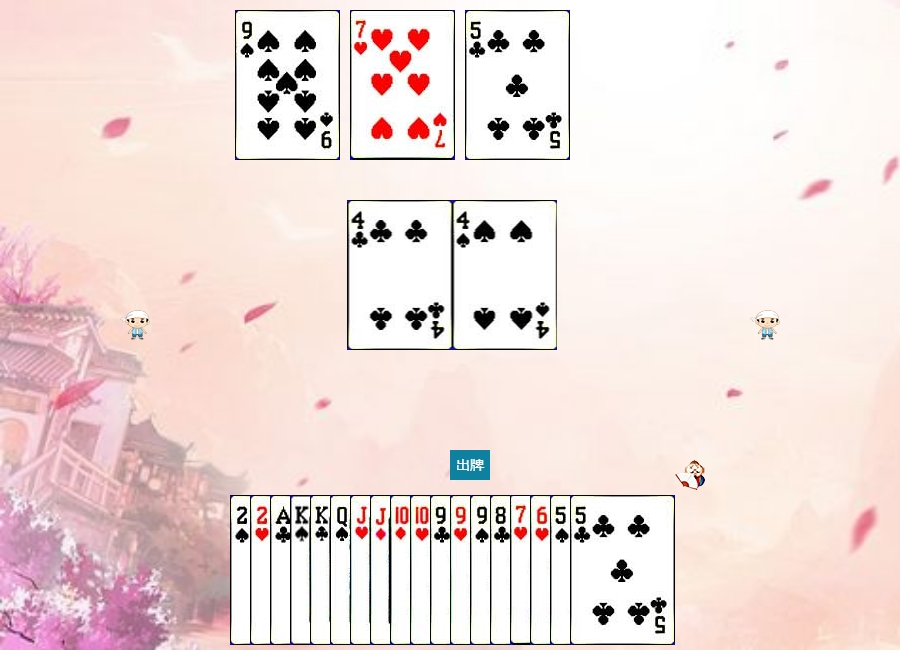10~1: (390, 495, 495, 645)
10~3: (410, 495, 515, 645)
11~1: (370, 495, 475, 645)
11~3: (350, 495, 455, 645)
12~4: (330, 495, 435, 645)
13~2: (310, 495, 415, 645)
13~4: (290, 495, 395, 645)
14~2: (270, 495, 375, 645)
15~3: (250, 495, 355, 645)
15~4: (230, 495, 335, 645)
4~2: (348, 200, 453, 350)
4~4: (453, 200, 558, 350)
5~2: (465, 10, 570, 160), (570, 495, 675, 645)
5~4: (550, 495, 655, 645)
6~3: (530, 495, 635, 645)
7~3: (350, 10, 455, 160), (510, 495, 615, 645)
8~2: (490, 495, 595, 645)
9~2: (430, 495, 535, 645)
9~3: (450, 495, 555, 645)
9~4: (235, 10, 340, 160), (470, 495, 575, 645)
